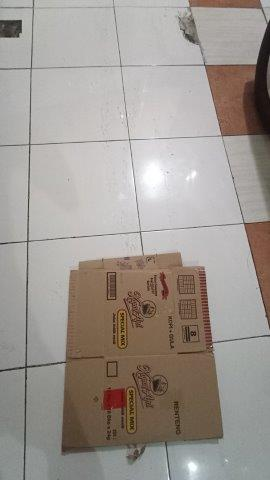kardus: (63, 254, 222, 446)
